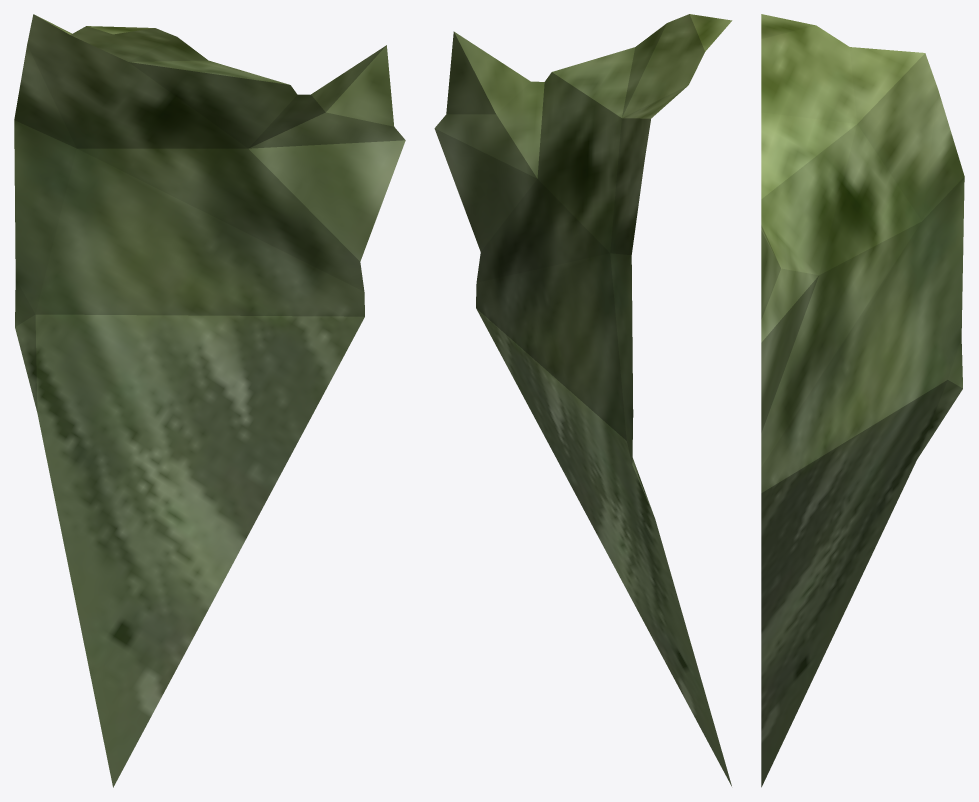
The picture shows the model from 3 angles, left to right: view 1: azimuth 30°, elevation 25°; view 2: azimuth 150°, elevation 25°; view 3: azimuth 270°, elevation 25°; orthographic projection. The views are drawn at different scales.
Size of the model in its own units: 0.5393 by 1.33 by 0.3158.
1 material, 1 textured.
